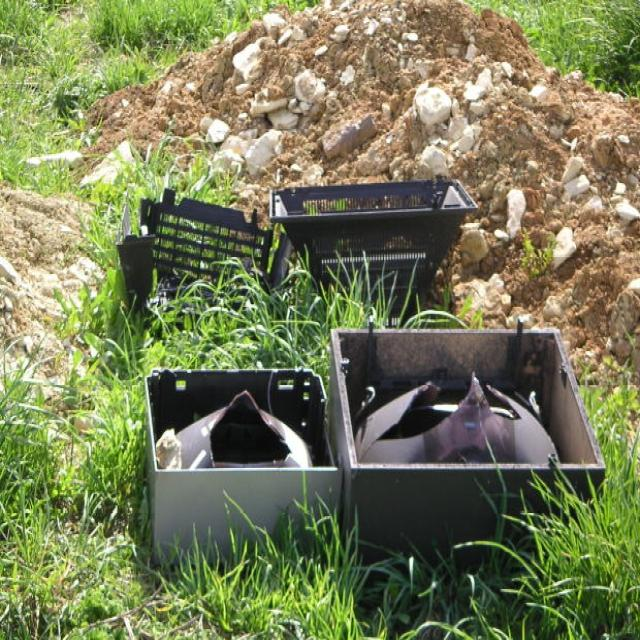metal: (132, 332, 589, 572)
plastic: (126, 168, 471, 304)
